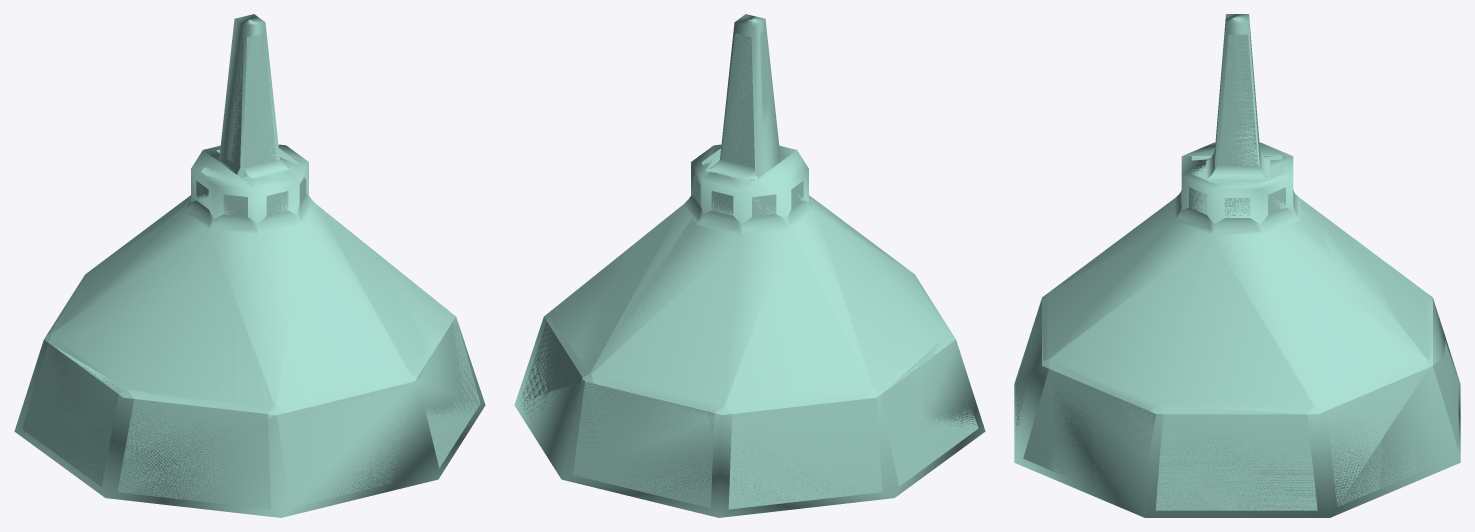
The model's file is space-kit__rocket_topB.glb.
The picture shows the model from 3 angles, left to right: view 1: azimuth 30°, elevation 25°; view 2: azimuth 150°, elevation 25°; view 3: azimuth 270°, elevation 25°; orthographic projection.
Parts seen in each view (by area): view 1: L0_accent, L1_accent; view 2: L0_accent, L1_accent; view 3: L0_accent, L1_accent.
Boxes of the visible parts, x1=… form: L0_accent: x1=22, y1=19, x2=480, y2=509; L1_accent: x1=14, y1=14, x2=485, y2=517; L0_accent: x1=521, y1=20, x2=978, y2=509; L1_accent: x1=514, y1=14, x2=985, y2=517; L0_accent: x1=1016, y1=18, x2=1458, y2=510; L1_accent: x1=1014, y1=14, x2=1460, y2=517.
Size of the model in its own units: 1 by 1 by 1.
